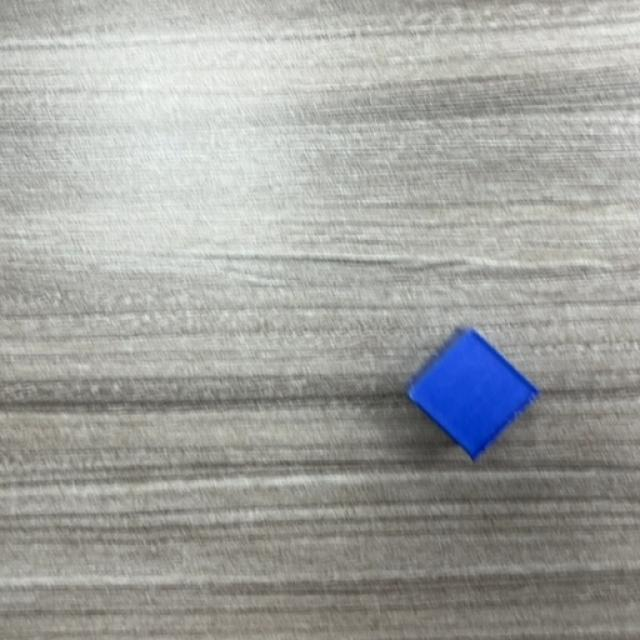Azul: (406, 329, 541, 464)
